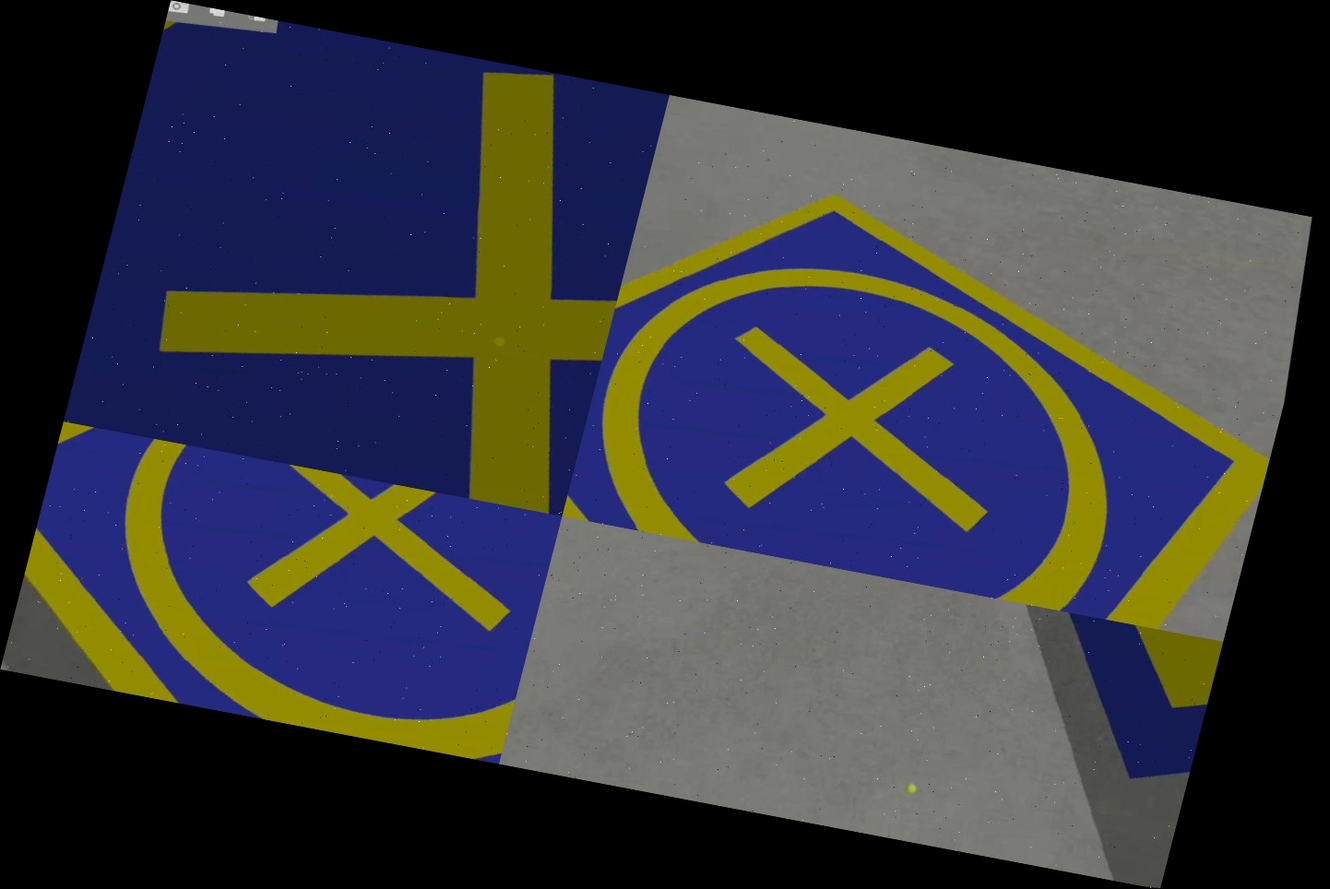large_base: (63, 0, 670, 516), (911, 590, 1222, 803)
small_base: (562, 120, 1324, 642), (0, 421, 562, 764)
